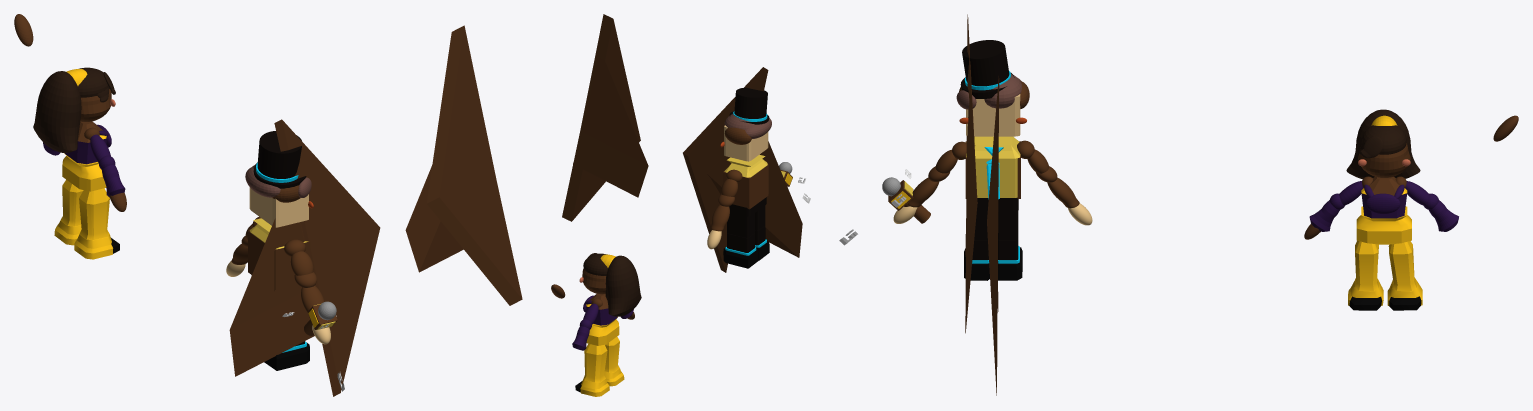
The model's file is Mr.Host.fbx.
3 renders of one model, left to right at view 1: azimuth 30°, elevation 25°; view 2: azimuth 150°, elevation 25°; view 3: azimuth 270°, elevation 25°, orthographic. The views are drawn at different scales.
Visible parts, largest first — view 1: Cube.010, Cube.011, Sphere.016, Cube.003, Cylinder.002, Cube, Cube.009, trousers, Cube.018, Sphere.001, Cube.030, Sphere.010 (+6 smaller); view 2: Cube.011, Cube.010, Sphere.016, Cube.009, Cylinder.002, Cube, Cube.003, Cube.016, Cube.020, Cube.002, trousers, Cube.031 (+12 smaller); view 3: Cube.010, Cube.002, Cylinder.002, Cube, Cube.009, Cube.003, trousers, Sphere.016, Sphere.003, Sphere, Sphere.010, Sphere.013 (+2 smaller).
Boxes of the visible parts, bbox=[...] form: Cube.010: bbox=[274, 25, 522, 396]; Cube.011: bbox=[229, 165, 463, 376]; Sphere.016: bbox=[33, 71, 81, 152]; Cube.003: bbox=[74, 188, 113, 259]; Cylinder.002: bbox=[257, 131, 301, 178]; Cube: bbox=[249, 187, 308, 227]; Cube.009: bbox=[54, 179, 83, 245]; trousers: bbox=[62, 156, 106, 191]; Cube.018: bbox=[274, 241, 310, 289]; Sphere.001: bbox=[14, 14, 126, 211]; Cube.030: bbox=[264, 341, 309, 370]; Sphere.010: bbox=[78, 67, 109, 97]; Cube.011: bbox=[573, 58, 802, 257]; Cube.010: bbox=[562, 14, 768, 272]; Sphere.016: bbox=[605, 255, 641, 316]; Cube.009: bbox=[580, 343, 609, 396]; Cylinder.002: bbox=[734, 87, 767, 118]; Cube: bbox=[724, 125, 768, 161]; Cube.003: bbox=[604, 337, 624, 386]; Cube.016: bbox=[747, 164, 768, 209]; Cube.020: bbox=[727, 212, 754, 237]; Cube.002: bbox=[724, 154, 767, 177]; trousers: bbox=[586, 319, 619, 345]; Cube.031: bbox=[723, 246, 758, 268]; Cube.010: bbox=[965, 14, 999, 395]; Cube.002: bbox=[966, 136, 1020, 197]; Cylinder.002: bbox=[962, 40, 1009, 86]; Cube: bbox=[966, 94, 1020, 136]; Cube.009: bbox=[1387, 241, 1422, 305]; Cube.003: bbox=[1348, 240, 1383, 305]; trousers: bbox=[1356, 215, 1411, 244]; Sphere.016: bbox=[1346, 109, 1420, 179]; Sphere.003: bbox=[1309, 200, 1458, 231]; Sphere: bbox=[1358, 143, 1410, 177]; Sphere.010: bbox=[1362, 125, 1406, 154]; Sphere.013: bbox=[1339, 181, 1428, 205].
Bounding box in the file's own units: 1329 × 1335 × 2515.
